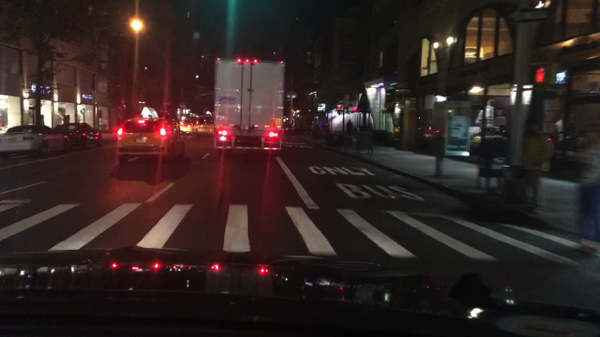car: (116, 108, 185, 165), (1, 125, 72, 160), (56, 122, 104, 150), (195, 112, 214, 136), (156, 110, 177, 129), (179, 117, 194, 135), (282, 122, 293, 136), (189, 115, 198, 124)
person: (573, 122, 599, 257), (521, 118, 552, 211), (346, 119, 353, 136), (307, 122, 311, 136)
traffic light: (532, 64, 555, 85)
truck: (214, 58, 285, 160)
